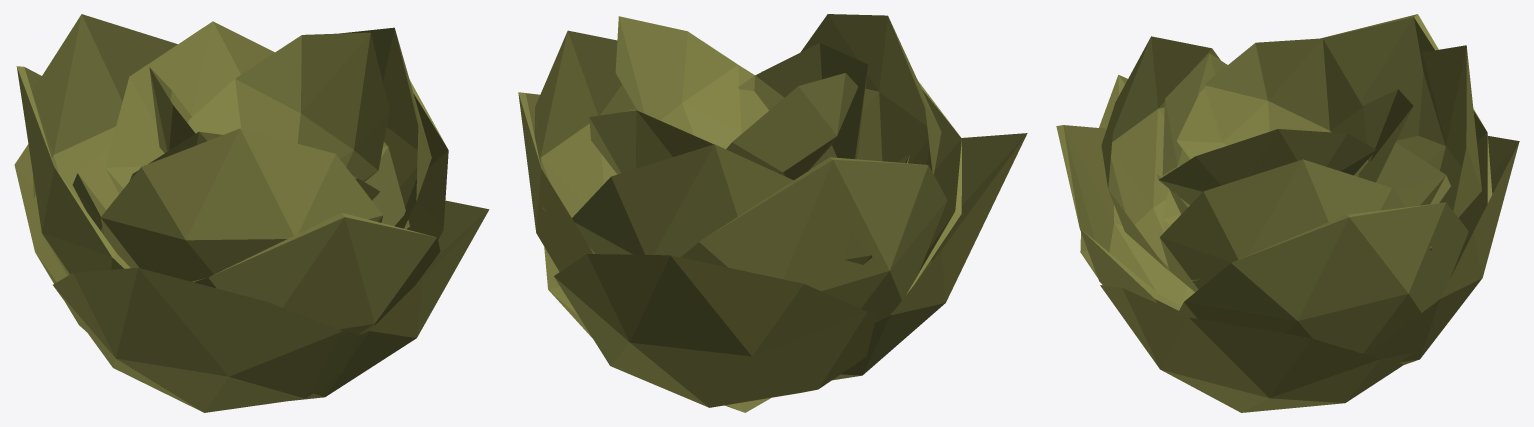
Rendered from SFM_FVC_Lettuce.fbx.
3 renders of one model, left to right at view 1: azimuth 30°, elevation 25°; view 2: azimuth 150°, elevation 25°; view 3: azimuth 270°, elevation 25°, orthographic. The views are drawn at different scales.
Visible parts, largest first — view 1: SFM_FVC_Lettuce; view 2: SFM_FVC_Lettuce; view 3: SFM_FVC_Lettuce.
Part boxes in pixels (box(x1,y1,x2,y2)): SFM_FVC_Lettuce: box(14, 14, 489, 412); SFM_FVC_Lettuce: box(518, 14, 1027, 412); SFM_FVC_Lettuce: box(1056, 14, 1519, 412).
Bounding box in the file's own units: 16.6 × 13.29 × 17.84.
